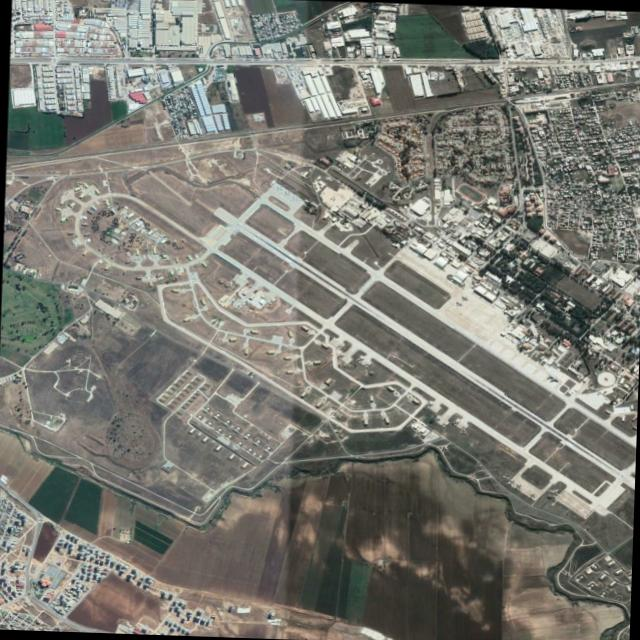plane: (545, 372, 560, 384), (513, 483, 522, 493), (526, 492, 536, 501), (507, 478, 515, 487), (454, 300, 463, 308), (460, 296, 468, 302)
